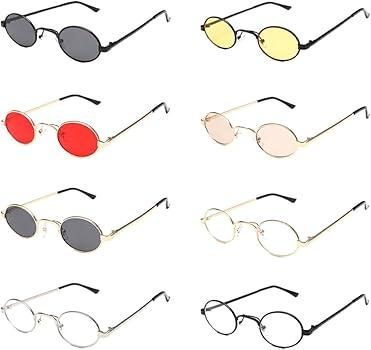spectacles: (191, 2, 366, 68), (189, 101, 365, 165), (1, 191, 167, 257), (196, 285, 361, 350), (3, 102, 170, 164), (2, 8, 173, 67), (3, 288, 169, 347), (201, 201, 362, 260)
